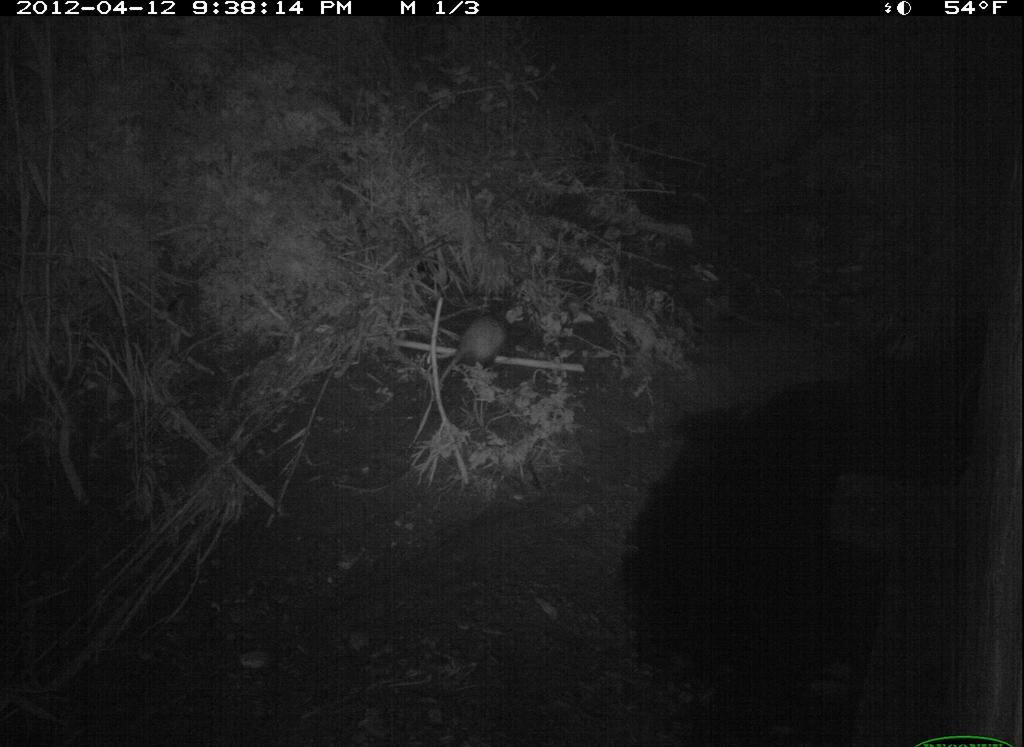opossum: (431, 303, 529, 398)
